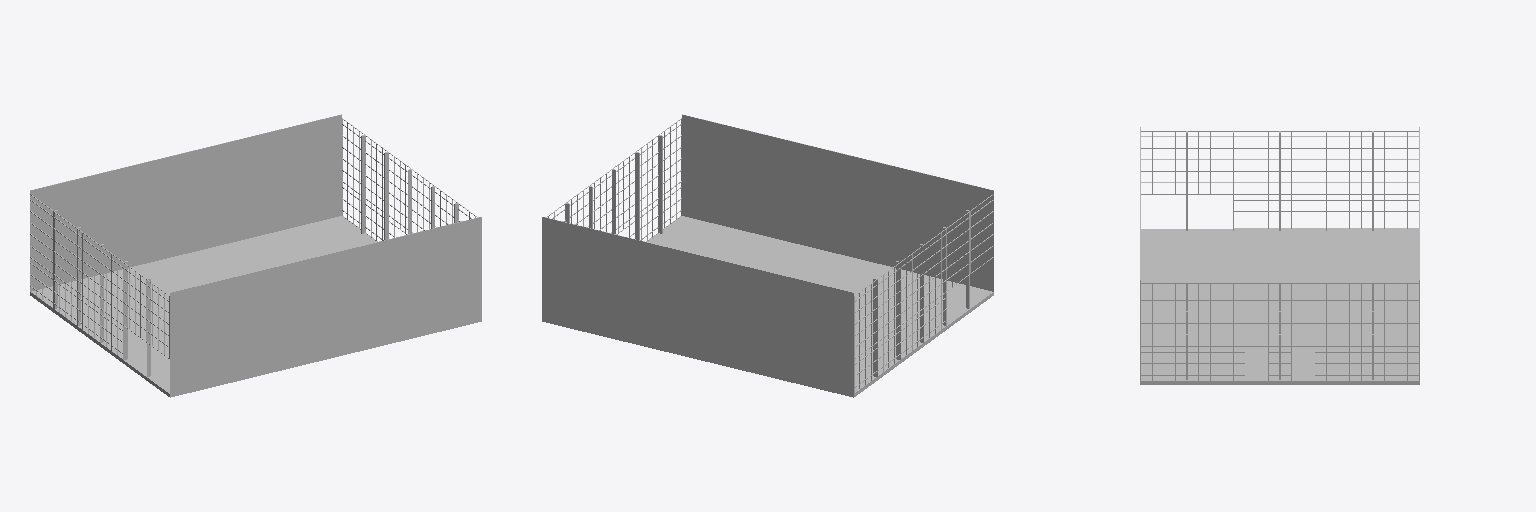
File: 3dMap_gym.obj
3 renders of one model, left to right at view 1: azimuth 30°, elevation 25°; view 2: azimuth 150°, elevation 25°; view 3: azimuth 270°, elevation 25°, orthographic.
Parts seen in each view (by area): view 1: wall_G-2_立方体.165, wall_G-2.001_立方体.167, floor_G_立方体.160, window_G_4_立方体.139, pillar_C_1F-1.001_立方体.128, window_G_5_立方体.140; view 2: wall_G-2.001_立方体.167, wall_G-2_立方体.165, floor_G_立方体.160, window_G_4_立方体.139, pillar_C_1F-1.001_立方体.128, window_G_5_立方体.140; view 3: floor_G_立方体.160, window_G_4_立方体.139, pillar_C_1F-1.001_立方体.128, window_G_5_立方体.140, window_G_2-out_立方体.108.
Boxes of the visible parts, box(x1,y1,x2,y2) form: wall_G-2_立方体.165: box(170, 217, 481, 397); wall_G-2.001_立方体.167: box(30, 114, 341, 291); floor_G_立方体.160: box(30, 216, 376, 396); window_G_4_立方体.139: box(30, 125, 470, 358); pillar_C_1F-1.001_立方体.128: box(54, 135, 457, 376); window_G_5_立方体.140: box(30, 118, 477, 301); wall_G-2.001_立方体.167: box(542, 217, 853, 397); wall_G-2_立方体.165: box(682, 114, 993, 291); floor_G_立方体.160: box(647, 216, 993, 396); window_G_4_立方体.139: box(553, 125, 993, 358); pillar_C_1F-1.001_立方体.128: box(566, 135, 969, 376); window_G_5_立方体.140: box(546, 118, 993, 301); floor_G_立方体.160: box(1141, 229, 1418, 384); window_G_4_立方体.139: box(1141, 137, 1418, 346); pillar_C_1F-1.001_立方体.128: box(1186, 131, 1373, 379); window_G_5_立方体.140: box(1141, 131, 1418, 288); window_G_2-out_立方体.108: box(1141, 352, 1418, 374).
Bounding box in the file's own units: 34.15 × 10.95 × 26.55.